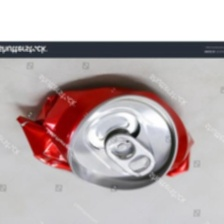can: (10, 83, 200, 192)
